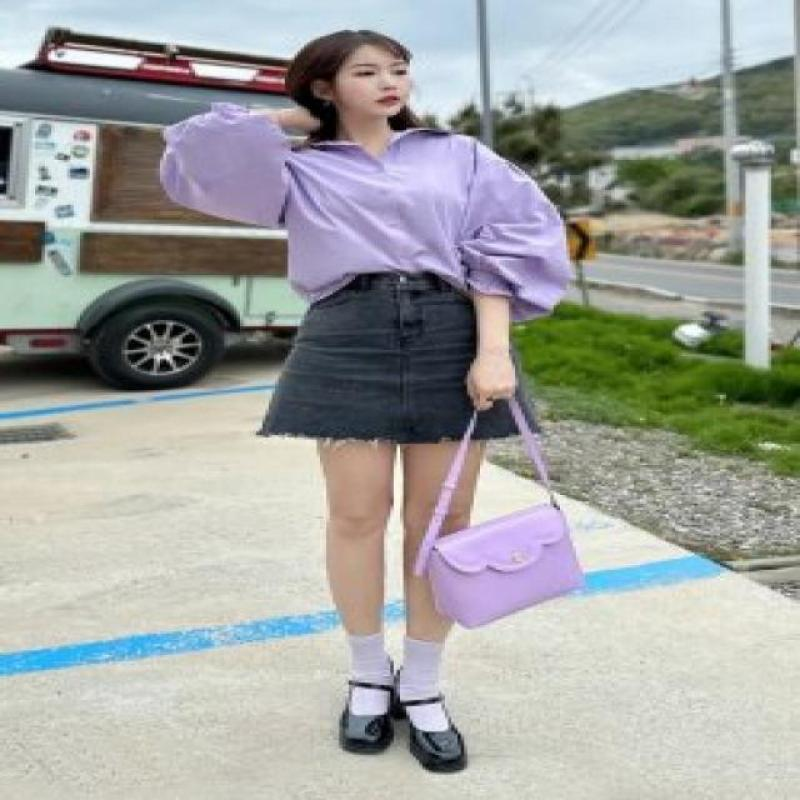short sleeve shirt: (152, 101, 582, 323)
skirt: (255, 271, 543, 443)
